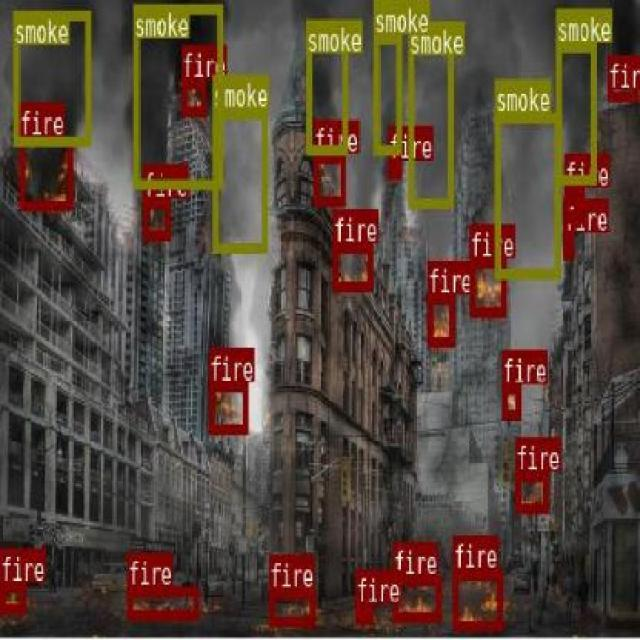Fire: (19, 134, 72, 208), (452, 568, 501, 630), (127, 586, 198, 617), (392, 576, 440, 619), (208, 382, 247, 432), (470, 257, 504, 314), (332, 242, 372, 290), (268, 588, 314, 624), (313, 152, 344, 205), (427, 293, 453, 344), (514, 471, 546, 511), (142, 198, 168, 238), (180, 78, 206, 114), (0, 580, 25, 611), (500, 382, 520, 418), (354, 602, 372, 624), (388, 160, 400, 176)
Smoke: (132, 3, 214, 176), (494, 112, 558, 276), (13, 9, 89, 146), (406, 21, 452, 207), (212, 107, 266, 250), (304, 17, 346, 152), (556, 42, 596, 182), (372, 33, 400, 153)
